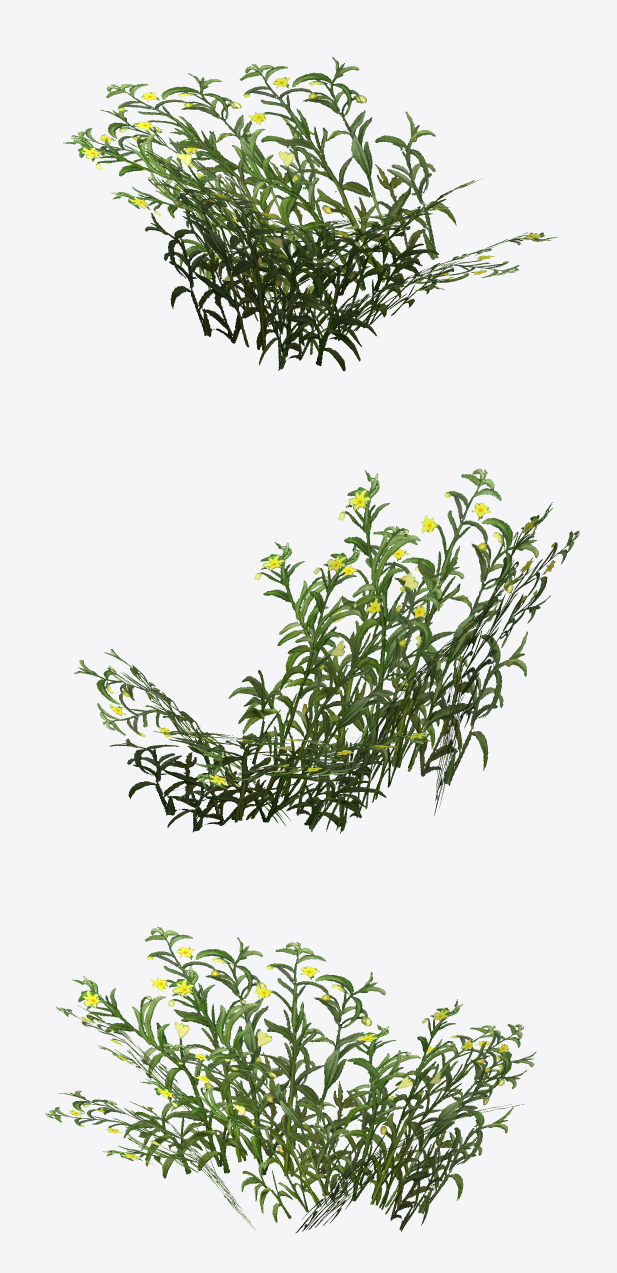
The model's file is wlf_cao02_w.FBX.
3 renders of one model, top to bottom at view 1: azimuth 30°, elevation 25°; view 2: azimuth 150°, elevation 25°; view 3: azimuth 270°, elevation 25°, orthographic. The views are drawn at different scales.
Visible parts, largest first — view 1: wlf_cao02_w; view 2: wlf_cao02_w; view 3: wlf_cao02_w.
Part boxes in pixels (x1,y1,x2,y2): wlf_cao02_w: [63, 57, 557, 371]; wlf_cao02_w: [74, 468, 579, 833]; wlf_cao02_w: [45, 927, 536, 1233].
Bounding box in the file's own units: 3045 × 1932 × 4330.
